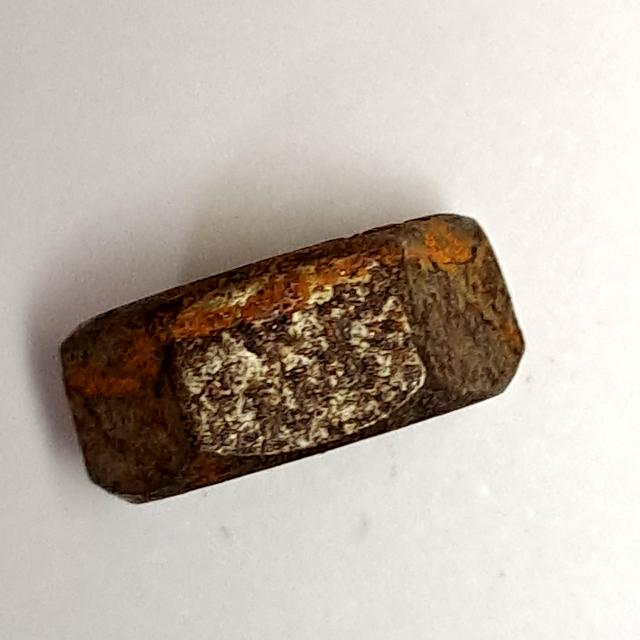Side_Rust: (40, 196, 539, 519)
